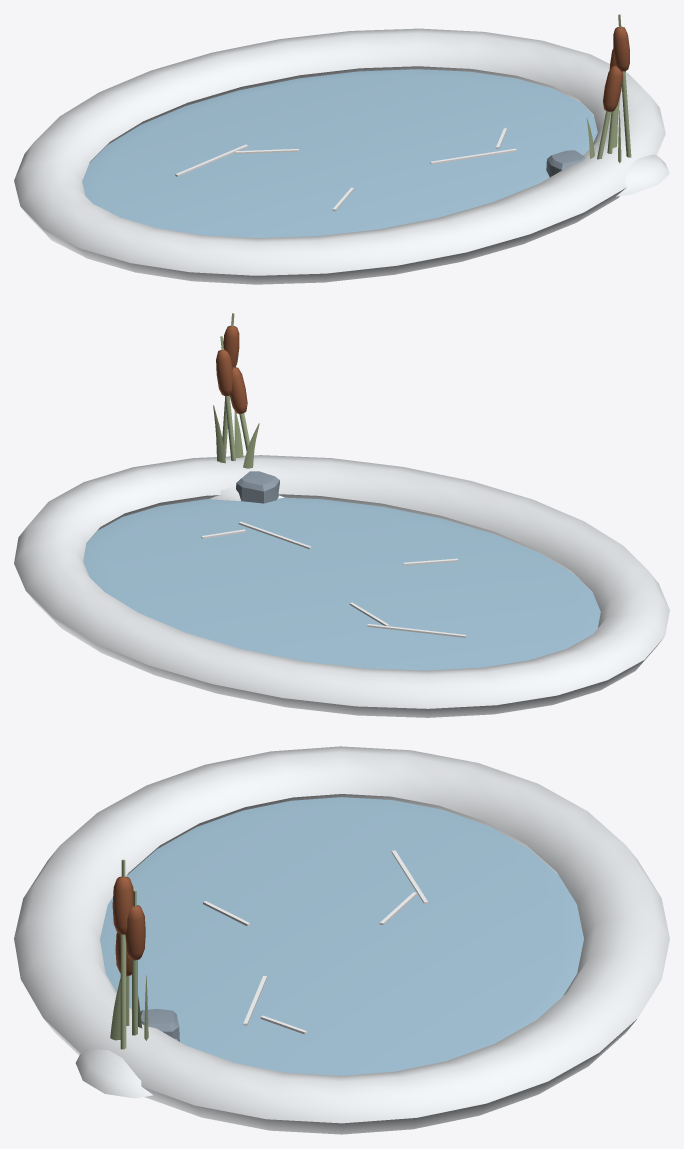
The model's file is FrozenPond.glb.
3 views of the same model, one above another, from view 1: azimuth 30°, elevation 25°; view 2: azimuth 150°, elevation 25°; view 3: azimuth 270°, elevation 25° (orthographic). The views are drawn at different scales.
Parts seen in each view (by area): view 1: FrozenPond; view 2: FrozenPond; view 3: FrozenPond.
Part boxes in pixels (x1,y1,x2,y2): FrozenPond: [14, 14, 669, 284]; FrozenPond: [14, 313, 669, 717]; FrozenPond: [14, 746, 669, 1134].
Size of the model in its own units: 15.11 by 4.29 by 11.45.
1 material, 1 textured.
